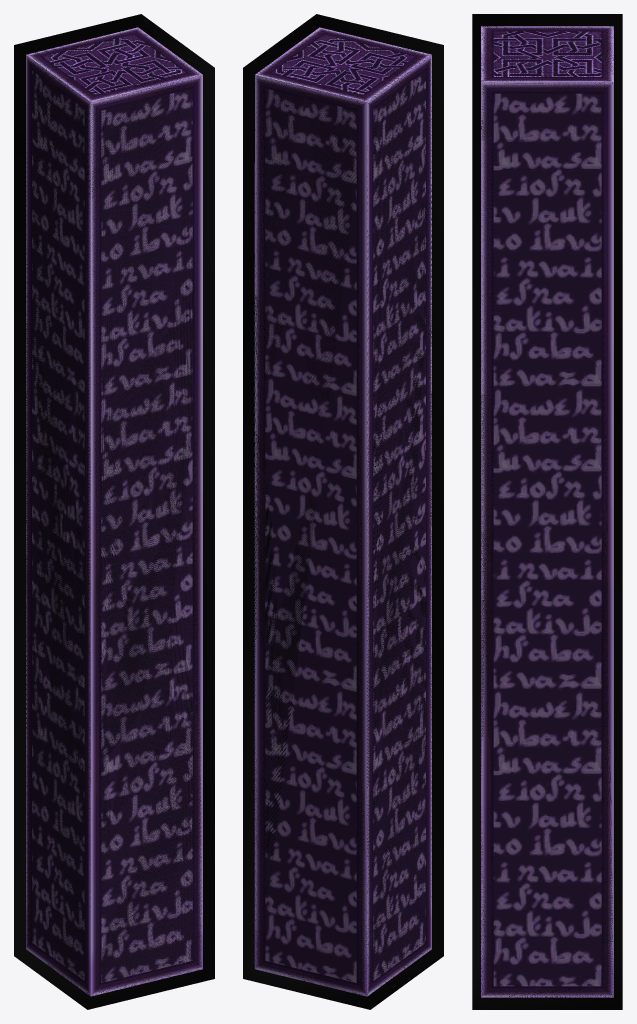
The model's file is WonderPillar1.gltf.
3 renders of one model, left to right at view 1: azimuth 30°, elevation 25°; view 2: azimuth 150°, elevation 25°; view 3: azimuth 270°, elevation 25°, orthographic. The views are drawn at different scales.
Visible parts, largest first — view 1: WonderPillar1Mesh, WonderPillar1ZWriteMesh, WonderPillar1BloomMesh; view 2: WonderPillar1Mesh, WonderPillar1ZWriteMesh, WonderPillar1BloomMesh; view 3: WonderPillar1Mesh, WonderPillar1BloomMesh, WonderPillar1ZWriteMesh.
Part boxes in pixels (bbox=[...]): WonderPillar1Mesh: bbox=[26, 27, 202, 996]; WonderPillar1ZWriteMesh: bbox=[26, 28, 202, 995]; WonderPillar1BloomMesh: bbox=[14, 14, 214, 1009]; WonderPillar1Mesh: bbox=[254, 27, 431, 996]; WonderPillar1ZWriteMesh: bbox=[254, 28, 431, 994]; WonderPillar1BloomMesh: bbox=[243, 14, 443, 1009]; WonderPillar1Mesh: bbox=[481, 26, 613, 997]; WonderPillar1BloomMesh: bbox=[472, 14, 622, 1009]; WonderPillar1ZWriteMesh: bbox=[481, 26, 613, 997].
Bounding box in the file's own units: 1.2 × 8.2 × 1.2.
Materials: 4 (2 with a texture image).
